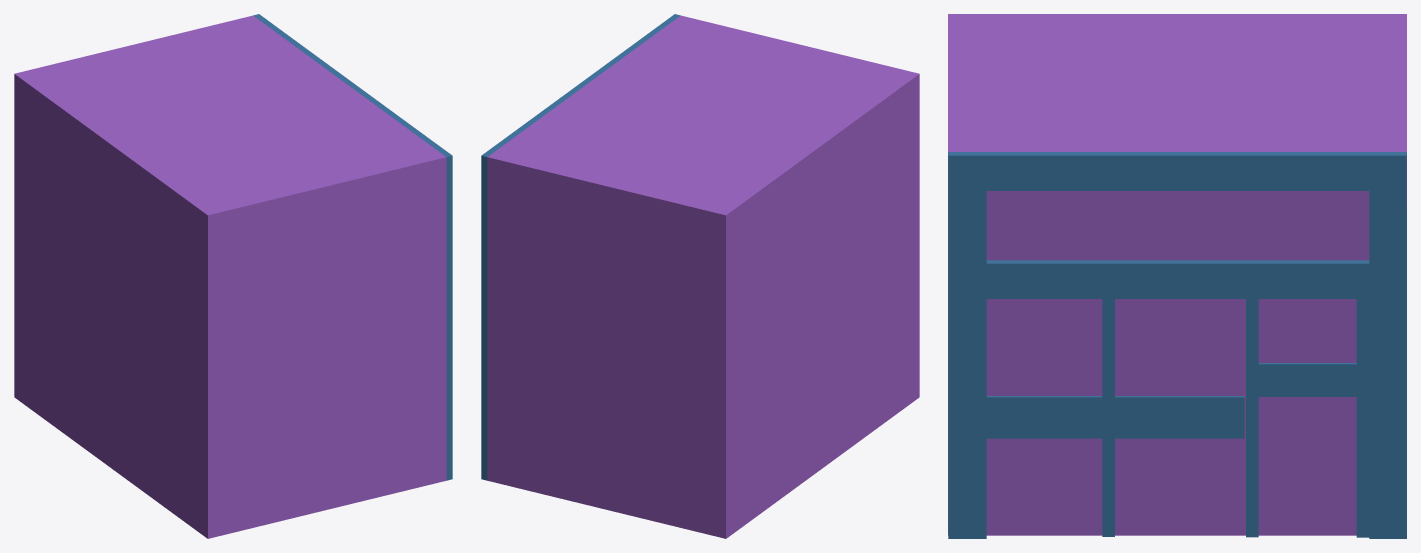
Rendered from Shop.fbx.
3 views of the same model, side by side, from view 1: azimuth 30°, elevation 25°; view 2: azimuth 150°, elevation 25°; view 3: azimuth 270°, elevation 25° (orthographic). The views are drawn at different scales.
Parts seen in each view (by area): view 1: polySurface1254, polySurface1251; view 2: polySurface1254, polySurface1251; view 3: polySurface1254, polySurface1251, polySurface1253, polySurface1252.
Part boxes in pixels (x1=…): polySurface1254: x1=14, y1=15, x2=446, y2=538; polySurface1251: x1=253, y1=14, x2=452, y2=480; polySurface1254: x1=487, y1=15, x2=919, y2=538; polySurface1251: x1=481, y1=14, x2=680, y2=480; polySurface1254: x1=948, y1=14, x2=1406, y2=535; polySurface1251: x1=948, y1=152, x2=1406, y2=538; polySurface1253: x1=986, y1=299, x2=1244, y2=536; polySurface1252: x1=1246, y1=299, x2=1369, y2=537.
Bounding box in the file's own units: 37.09 × 46.84 × 50.78.
